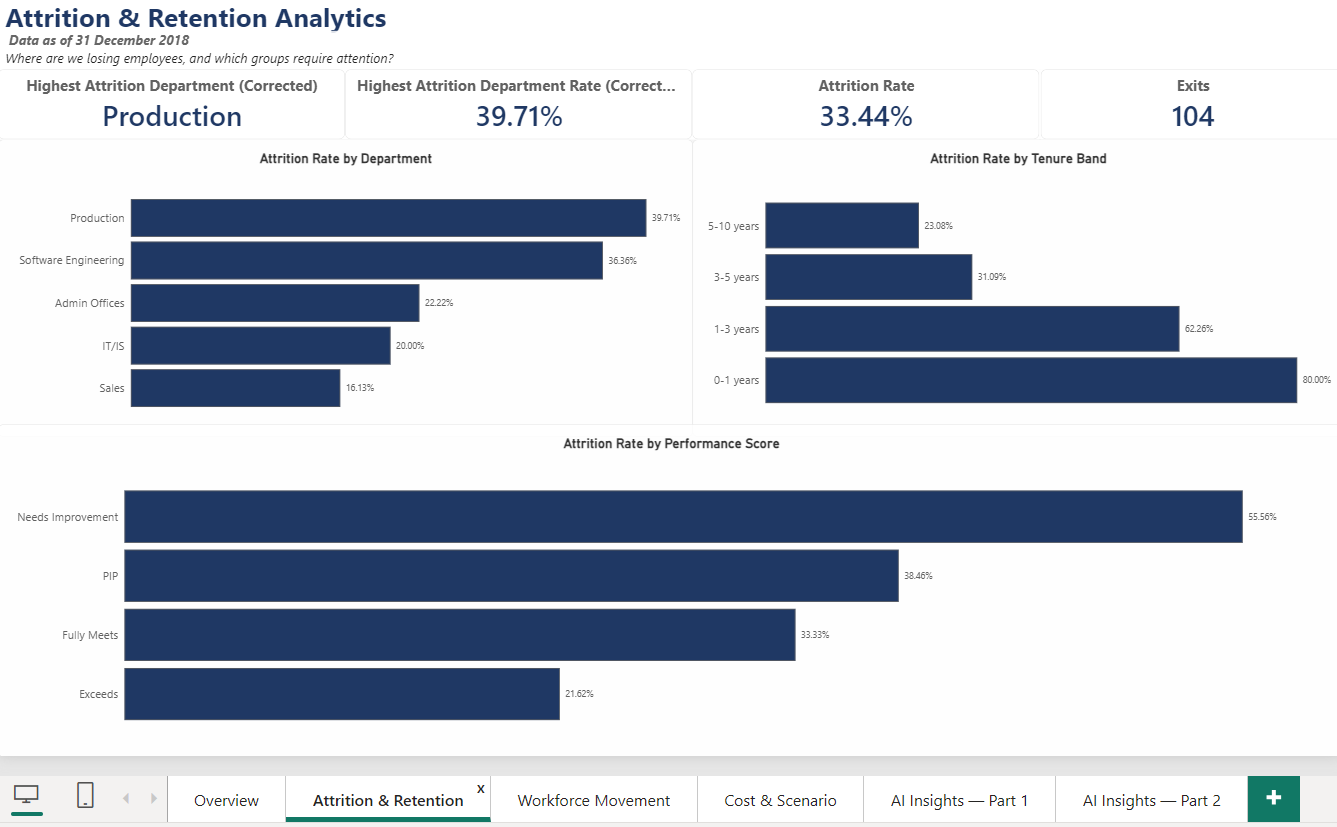

The dashboard page shown, as its layout file describes it:
{"tool":"powerbi","page":{"name":"Attrition & Retention","canvas":[1920,1080],"ordinal":1},"visuals":[{"type":"group","id":"g1","title":"Group 1","box":[0,0,1920.8,100.2],"z":0},{"type":"textbox","box":[0,0,1920.8,73.6],"z":0,"group":"g1"},{"type":"textbox","box":[0,45.4,1920.8,54.8],"z":1000,"group":"g1"},{"type":"cardVisual","fields":{"Data":["HRDataset_v14.Highest Attrition Department (Corrected)"]},"box":[0,100.2,495,100],"z":1000,"group":"g2"},{"type":"clusteredBarChart","title":"Attrition Rate by Department","fields":{"Category":["HRDataset_v14.Department"],"Y":["HRDataset_v14.Group Attrition Rate (Suppressed)"]},"box":[0,200.4,991.4,424.1],"z":1000},{"type":"cardVisual","fields":{"Data":["HRDataset_v14.Highest Attrition Department Rate (Corrected)"]},"box":[495.7,100.2,495,100],"z":2000,"group":"g2"},{"type":"clusteredBarChart","title":"Attrition Rate by Tenure Band","fields":{"Category":["HRDataset_v14.Tenure Band"],"Y":["HRDataset_v14.Group Attrition Rate (Suppressed)"]},"box":[990.6,200.4,929.4,424.1],"z":2000},{"type":"cardVisual","fields":{"Data":["HRDataset_v14.Attrition Rate"]},"box":[991.4,100.2,495,100],"z":3000,"group":"g2"},{"type":"clusteredBarChart","title":"Attrition Rate by Performance Score","fields":{"Category":["HRDataset_v14.PerformanceScore"],"Y":["HRDataset_v14.Group Attrition Rate (Suppressed)"]},"box":[0,606.1,1920.8,474.4],"z":3000},{"type":"group","id":"g2","title":"Group 2","box":[0,100.2,1920.8,100.2],"z":4000},{"type":"cardVisual","fields":{"Data":["HRDataset_v14.Exits"]},"box":[1487.1,100.2,433.7,100.7],"z":4000,"group":"g2"}]}

Visuals, with their boxes on the page's 1920x1080 design canvas (x1, y1, x2, y2). These are canvas units, not pixel positions in the 1337x827 screenshot, which may show the page scaled, cropped or inside an application window:
"Group 1" group: rect(0, 0, 1921, 100)
textbox: rect(0, 0, 1921, 74)
textbox: rect(0, 45, 1921, 100)
cardVisual - HRDataset_v14.Highest Attrition Department (Corrected): rect(0, 100, 495, 200)
"Attrition Rate by Department" clusteredBarChart: rect(0, 200, 991, 624)
cardVisual - HRDataset_v14.Highest Attrition Department Rate (Corrected): rect(496, 100, 991, 200)
"Attrition Rate by Tenure Band" clusteredBarChart: rect(991, 200, 1920, 624)
cardVisual - HRDataset_v14.Attrition Rate: rect(991, 100, 1486, 200)
"Attrition Rate by Performance Score" clusteredBarChart: rect(0, 606, 1921, 1080)
"Group 2" group: rect(0, 100, 1921, 200)
cardVisual - HRDataset_v14.Exits: rect(1487, 100, 1921, 201)
